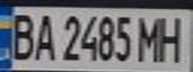2: (57, 11, 81, 62)
4: (78, 11, 100, 62)
5: (115, 11, 139, 62)
8: (97, 12, 118, 62)
A: (30, 10, 57, 62)
B: (3, 9, 39, 62)
H: (154, 11, 190, 63)
M: (136, 12, 166, 63)
